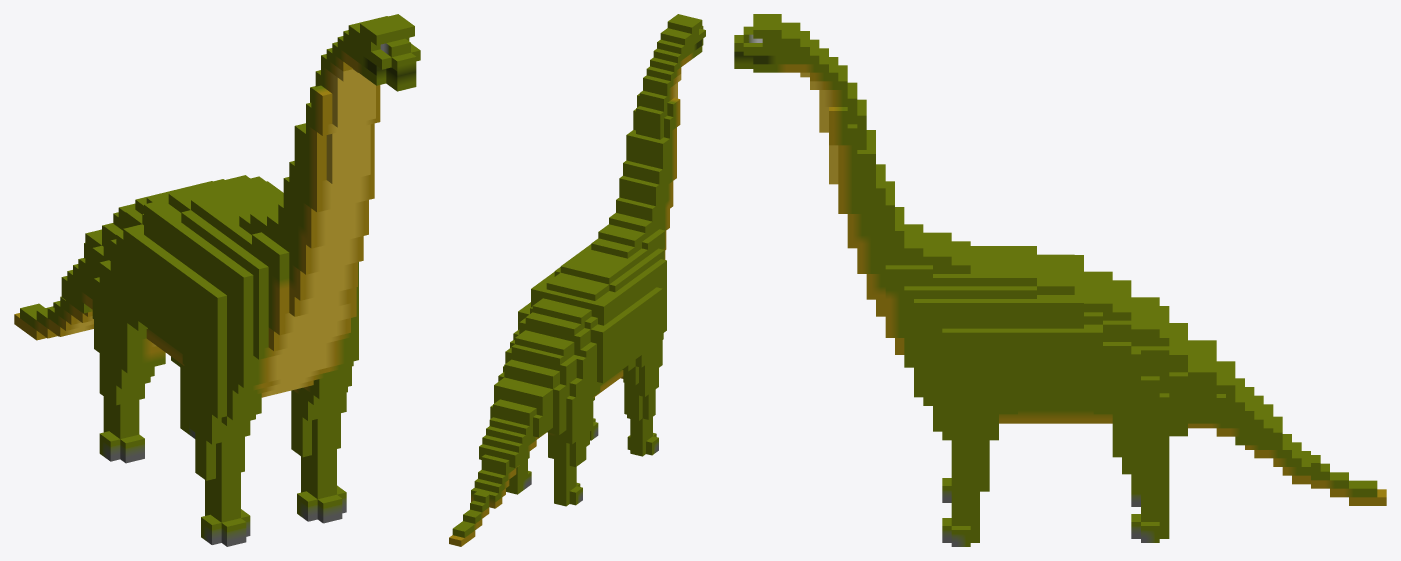
The model's file is bronto.fbx.
The picture shows the model from 3 angles, left to right: view 1: azimuth 30°, elevation 25°; view 2: azimuth 150°, elevation 25°; view 3: azimuth 270°, elevation 25°; orthographic projection. The views are drawn at different scales.
Parts seen in each view (by area): view 1: bronto; view 2: bronto; view 3: bronto.
Part boxes in pixels (x1,y1,x2,y2): bronto: (14, 14, 420, 546); bronto: (449, 14, 705, 546); bronto: (734, 14, 1386, 546).
Bounding box in the file's own units: 14 × 58 × 69.
Materials: 1 (1 with a texture image).
